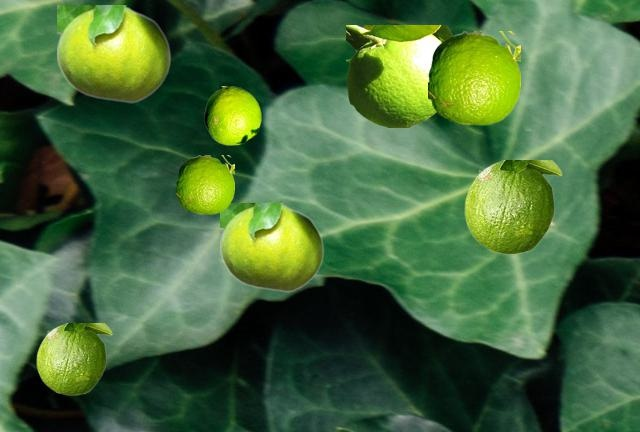dalandan: (57, 5, 170, 102), (346, 25, 452, 126), (220, 203, 323, 291), (464, 160, 561, 253), (428, 31, 519, 124), (36, 323, 111, 394), (176, 155, 233, 213), (204, 86, 260, 144)
